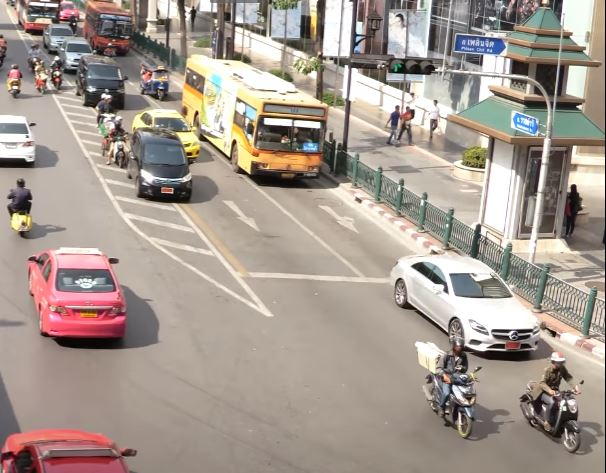Bus: (181, 54, 330, 181), (83, 1, 135, 56), (14, 1, 61, 32)
Car: (387, 252, 542, 358), (26, 243, 132, 342), (1, 423, 136, 473), (127, 126, 194, 201), (133, 109, 200, 156), (77, 53, 126, 107), (1, 114, 36, 164), (59, 38, 95, 71), (44, 24, 72, 52), (59, 1, 80, 22)
Motorcycle: (412, 335, 481, 439), (519, 349, 585, 452), (6, 175, 35, 240), (106, 120, 133, 170), (94, 93, 119, 133), (32, 59, 51, 97), (6, 63, 24, 98), (49, 56, 63, 91), (26, 42, 42, 69), (1, 33, 8, 65)
TukTuk: (139, 61, 171, 100)
